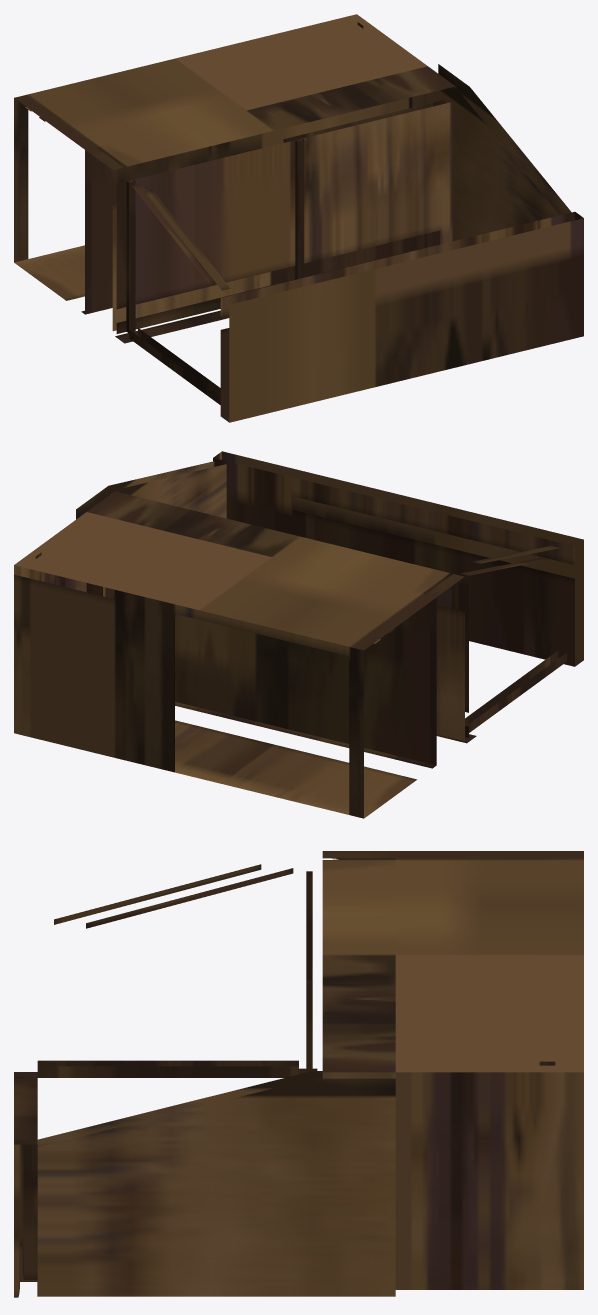
Rendered from section-2.obj.
The picture shows the model from 3 angles, top to bottom: view 1: azimuth 30°, elevation 25°; view 2: azimuth 150°, elevation 25°; view 3: azimuth 270°, elevation 25°; orthographic projection. The views are drawn at different scales.
Size of the model in its own units: 1.04 by 0.4766 by 1.09.
